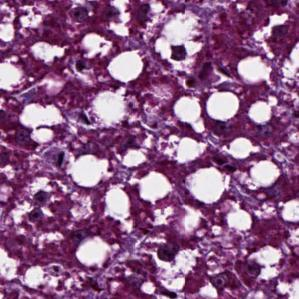steatosis: (206, 88, 241, 120), (108, 52, 145, 81)
